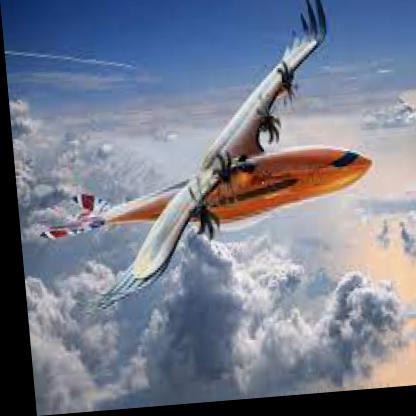Aircraft: (22, 0, 378, 310)
